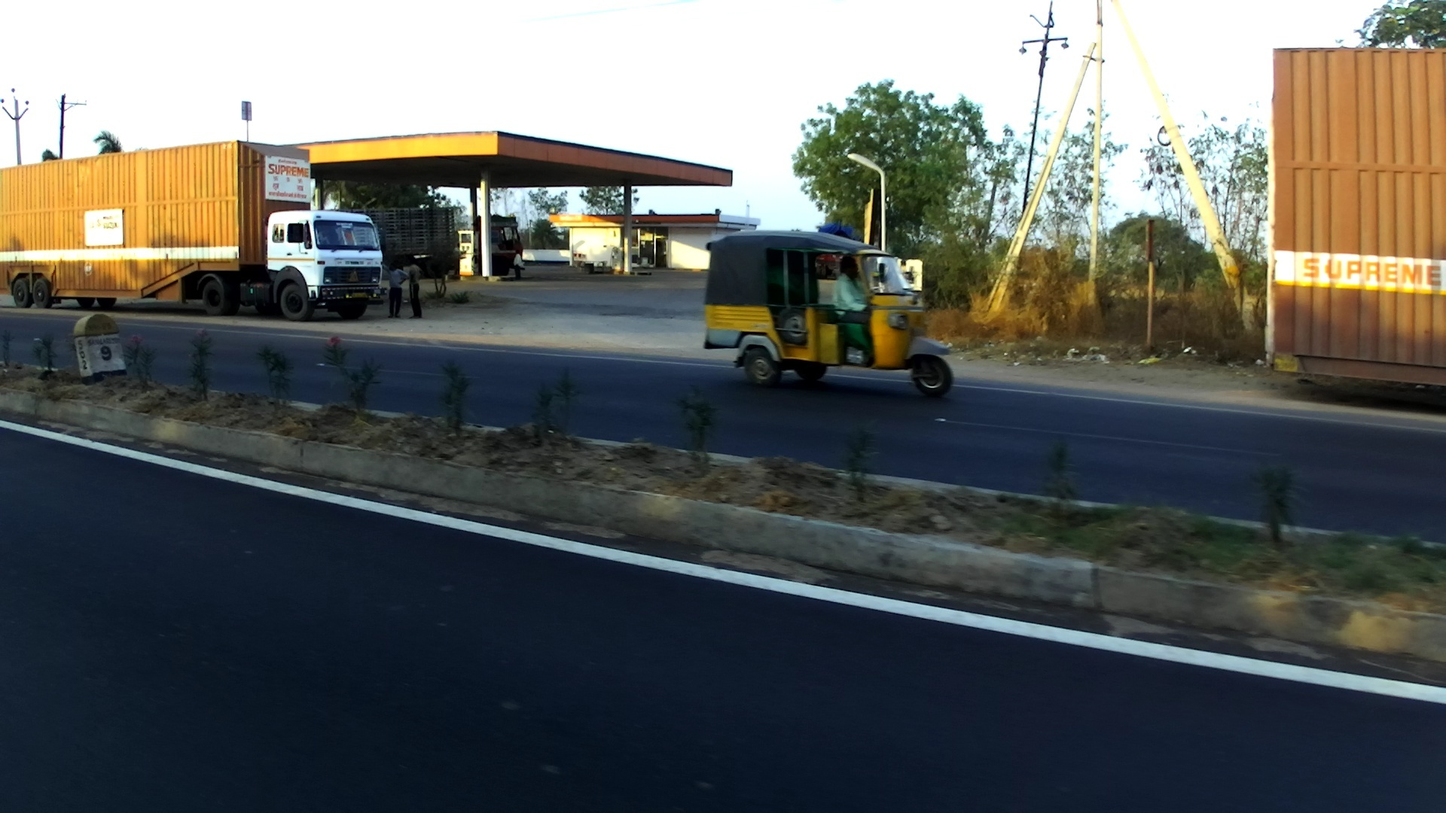autorickshaw: (701, 230, 954, 397)
person: (403, 254, 426, 319), (383, 260, 404, 320), (508, 248, 528, 281)
truck: (1, 139, 388, 320), (364, 209, 520, 283)
vehicle fallback: (1264, 44, 1446, 388)
